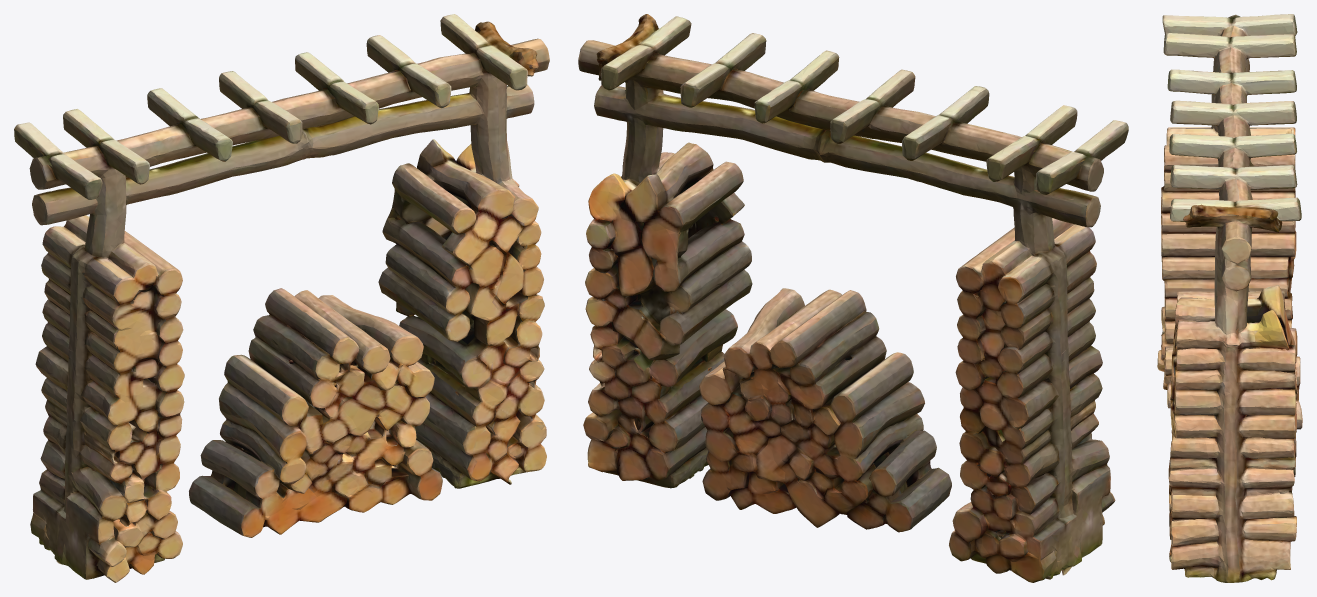
The model's file is prop_firewood_stack_02.glb.
3 renders of one model, left to right at view 1: azimuth 30°, elevation 25°; view 2: azimuth 150°, elevation 25°; view 3: azimuth 270°, elevation 25°, orthographic. The views are drawn at different scales.
Visible parts, largest first — view 1: geometry_0; view 2: geometry_0; view 3: geometry_0.
Boxes of the visible parts, bbox=[...] form: geometry_0: bbox=[14, 14, 549, 582]; geometry_0: bbox=[578, 14, 1128, 582]; geometry_0: bbox=[1157, 14, 1302, 582].
Bounding box in the file's own units: 1 × 0.8063 × 0.281.
Materials: 1 (1 with a texture image).
